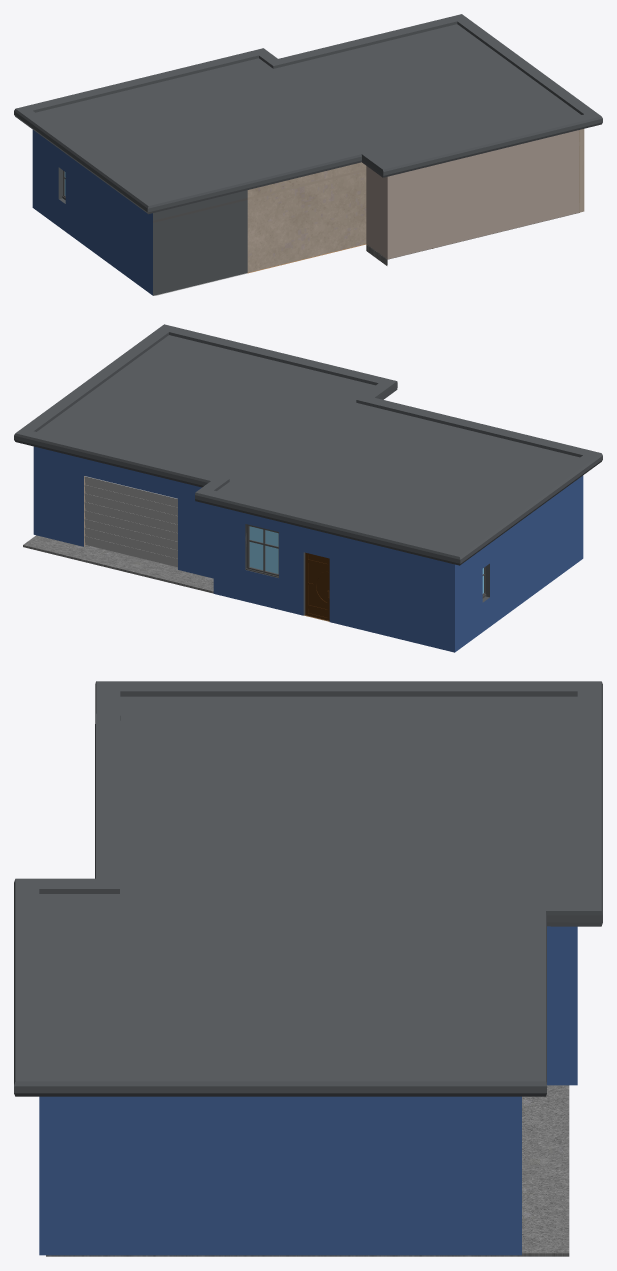
The model's file is Home (1).fbx.
3 views of the same model, one above another, from view 1: azimuth 30°, elevation 25°; view 2: azimuth 150°, elevation 25°; view 3: azimuth 270°, elevation 25° (orthographic). The views are drawn at different scales.
Parts seen in each view (by area): view 1: Plane.003, Plane, Plane.002; view 2: Plane.003, Plane, Plane.001, Plane.002, Window_Small2.003; view 3: Plane.003, Plane, Plane.002.
Boxes of the visible parts, <box> form: Plane.003: <box>14,14,602,214</box>; Plane: <box>32,129,584,295</box>; Plane.002: <box>155,212,579,295</box>; Plane.003: <box>14,324,602,565</box>; Plane: <box>33,446,583,652</box>; Plane.001: <box>84,476,177,567</box>; Plane.002: <box>23,535,329,621</box>; Window_Small2.003: <box>246,524,278,577</box>; Plane.003: <box>14,681,602,1096</box>; Plane: <box>39,926,577,1255</box>; Plane.002: <box>46,1085,569,1256</box>.
Bounding box in the file's own units: 445 × 104 × 276.
